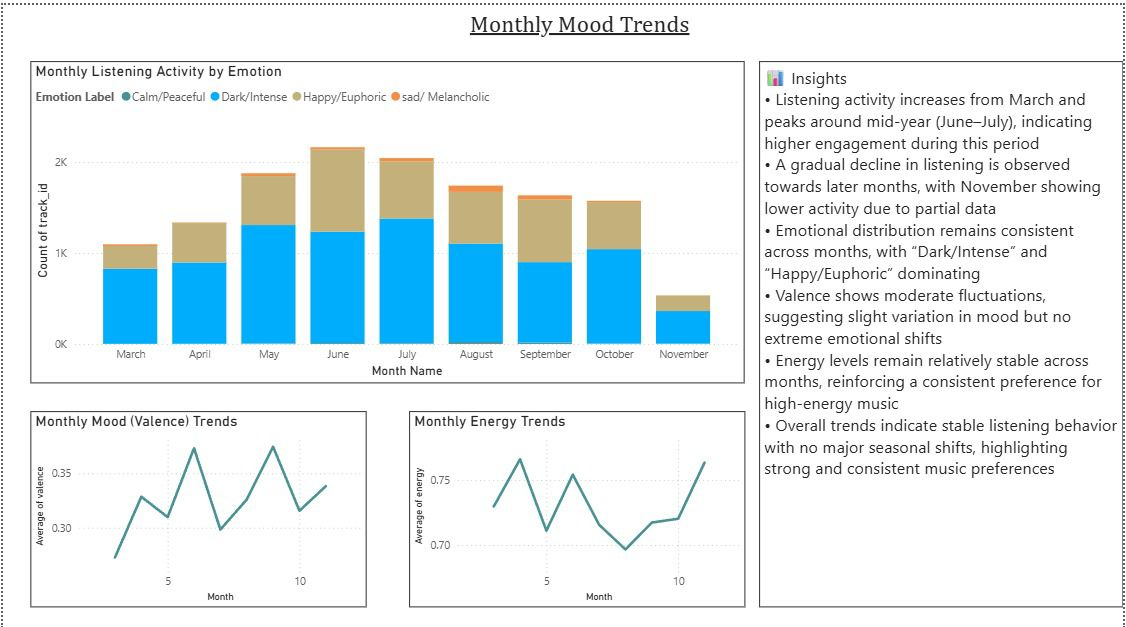

The dashboard page shown, as its layout file describes it:
{"tool":"powerbi","page":{"name":"Monthly Mood Trends","canvas":[1280,720],"ordinal":2},"visuals":[{"type":"columnChart","title":"Monthly Listening Activity by Emotion","fields":{"Category":["emotionanalysis.Month Name"],"Y":["CountNonNull(emotionanalysis.track_id)"],"Series":["emotionanalysis.Emotion Label"]},"box":[32,64,816,368],"z":0},{"type":"lineChart","title":"Monthly Mood (Valence) Trends","fields":{"Category":["emotionanalysis.Month"],"Y":["Avg(emotionanalysis.valence)"]},"box":[32,464,384,224],"z":1000},{"type":"lineChart","title":"Monthly Energy Trends","fields":{"Category":["emotionanalysis.Month"],"Y":["Avg(emotionanalysis.energy)"]},"box":[464,464,384,224],"z":2000},{"type":"textbox","box":[864,64,416,624],"z":3000},{"type":"textbox","box":[528,0,304,48],"z":4000}]}

Visuals, with their boxes in screenshot pixels (x1, y1, x2, y2), scaled from the page's 1280x720 canvas onto the 1126x627 screenshot:
"Monthly Listening Activity by Emotion" columnChart: 28:56:746:376
"Monthly Mood (Valence) Trends" lineChart: 28:404:366:599
"Monthly Energy Trends" lineChart: 408:404:746:599
textbox: 760:56:1125:599
textbox: 464:0:732:42
